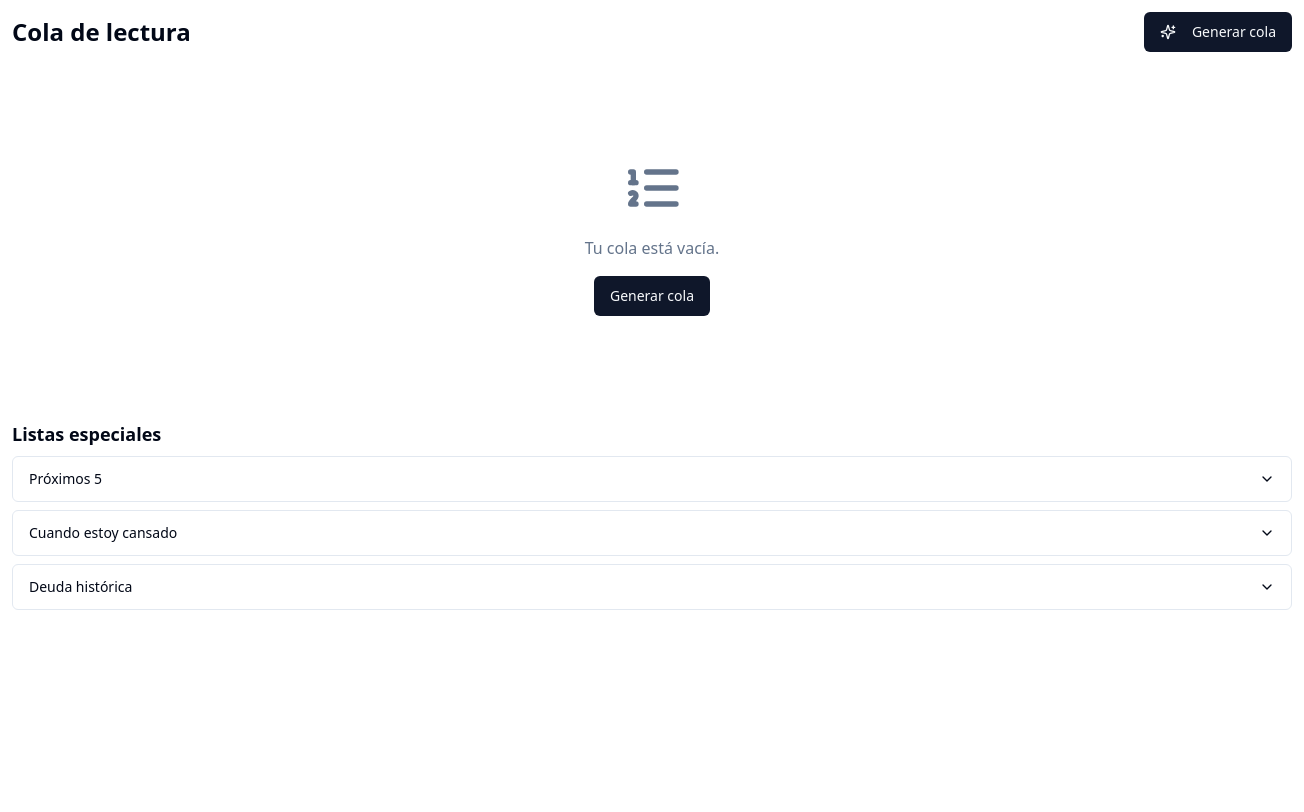
Scenario: QueuePage — badge IA (CA-13 / CA-14) › muestra "✨ Generada con IA" cuando aiContributed=true (CA-13)
The width and height of the screenshot is (1304, 812).
Click the button "Generar cola" in the row of "Cola de lectura" at coordinates (1218, 32), box [1144,12,1292,52]
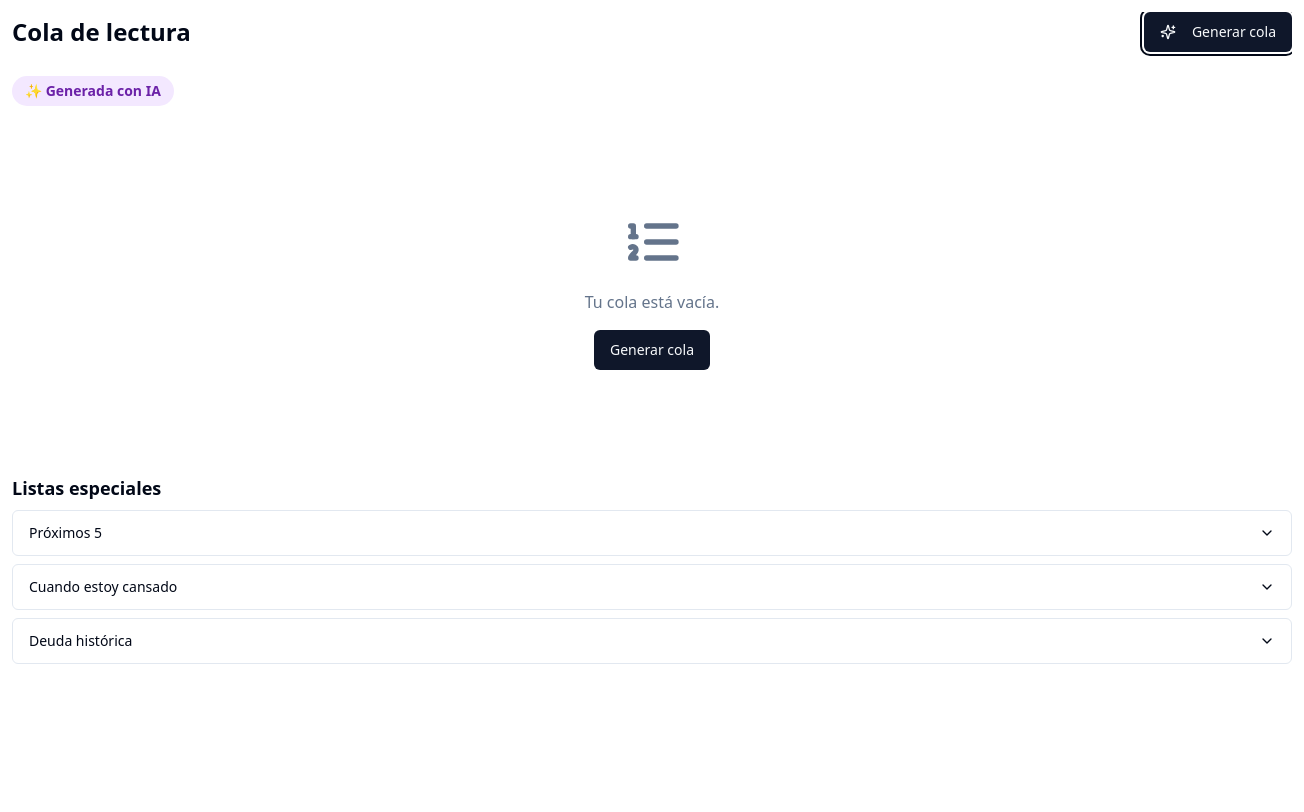
Check: the text "✨ Generada con IA" is shown, box [12,76,174,106]
